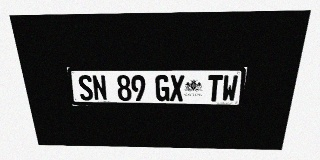8: (116, 75, 132, 101)
9: (131, 75, 146, 101)
G: (155, 75, 169, 101)
N: (91, 75, 108, 101)
S: (77, 75, 94, 101)
T: (207, 75, 223, 102)
W: (221, 75, 238, 102)
X: (170, 75, 184, 101)
